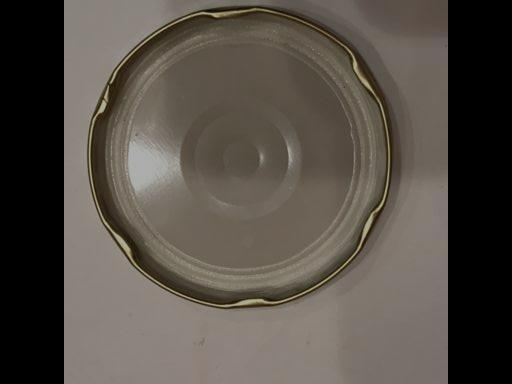metal: (86, 4, 395, 310)
